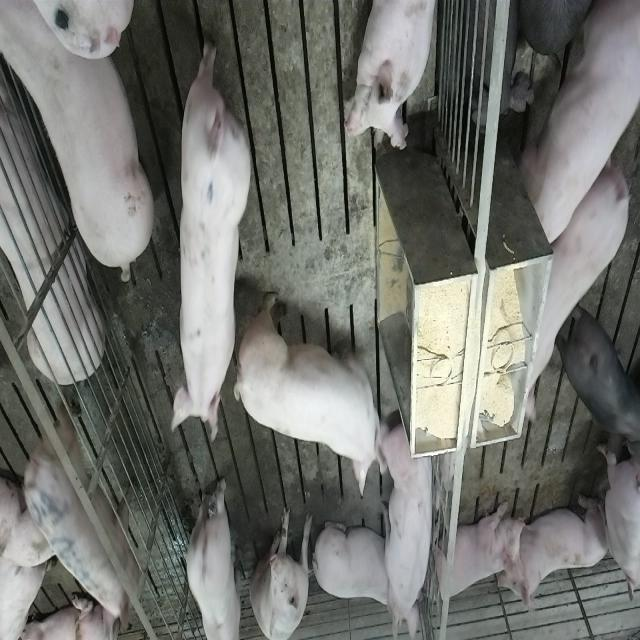Feeding: (232, 288, 381, 498)
Lateral_lying: (0, 69, 104, 383)
Sitting: (381, 416, 438, 636), (250, 505, 312, 639)
Standing: (177, 27, 259, 442), (516, 0, 637, 246), (24, 414, 145, 638), (533, 146, 635, 368), (561, 298, 640, 452), (185, 476, 242, 640)
Sternal_lying: (346, 0, 440, 153), (500, 491, 610, 619), (428, 498, 524, 608), (314, 516, 396, 608)
